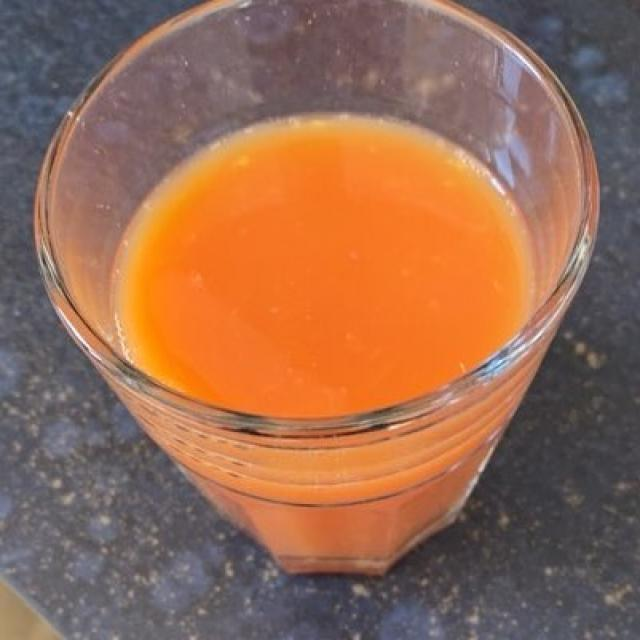juice: (102, 102, 546, 577)
